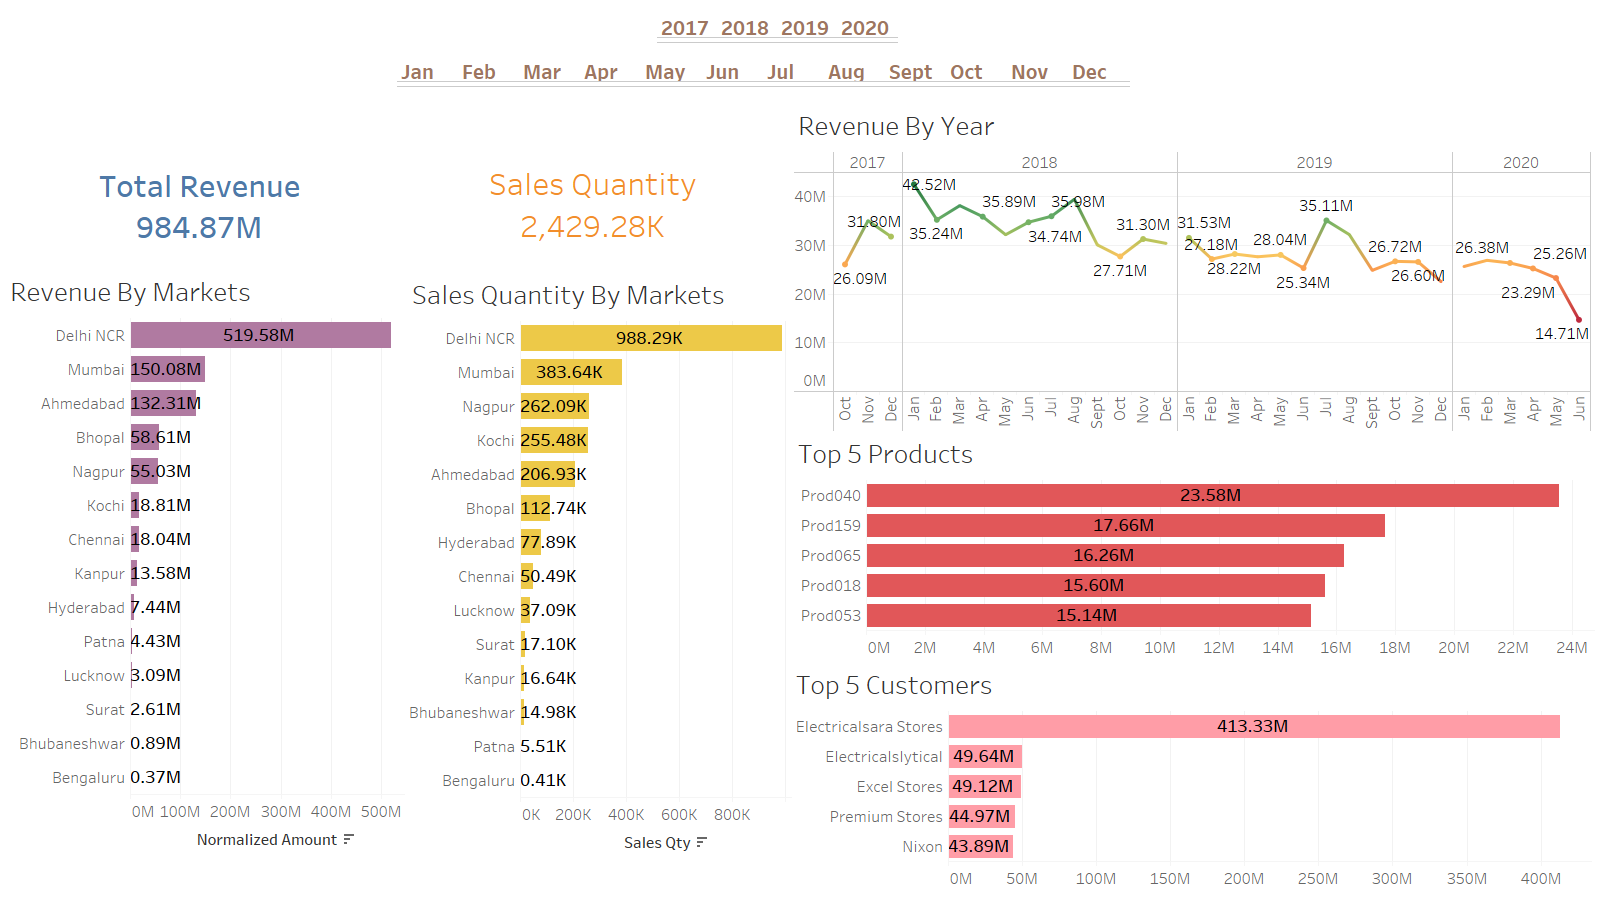

Layout of this report page (visuals, bound fields, positions):
{"tool":"tableau","page":{"name":"Dashboard - Rvenue Analisis","canvas":[1600,900],"ordinal":1},"visuals":[{"type":"worksheet","title":"Year","mark":"Automatic","cols":["cy_date"],"box":[657.1,2,268.8,50]},{"type":"worksheet","title":"Month","mark":"Automatic","cols":["cy_date"],"box":[396.8,46,791.5,58]},{"type":"worksheet","title":"Revenue By Year","mark":"Automatic","rows":["Calculation_1678998249550069760"],"cols":["cy_date","cy_date"],"box":[794,102,797,330]},{"type":"worksheet","title":"Quantity","mark":"Automatic","box":[483,148,241,113]},{"type":"worksheet","title":"Revenue","mark":"Automatic","box":[90,150,236,102]},{"type":"worksheet","title":"Revenue By Markets","mark":"Automatic","rows":["markets_name"],"cols":["Calculation_1678998249550069760"],"box":[6,268,398,626]},{"type":"worksheet","title":"Sales Quantity By Markets","mark":"Automatic","rows":["markets_name"],"cols":["sales_qty"],"box":[408,271,387,620]},{"type":"worksheet","title":"Top 5 Products","mark":"Automatic","rows":["product_code (products)"],"cols":["Calculation_1678998249550069760"],"box":[794,430,800,232]},{"type":"worksheet","title":"Top 5 Customers","mark":"Automatic","rows":["custmer_name"],"cols":["Calculation_1678998249550069760"],"box":[792,661,799,233]}]}

Visuals, with their boxes in screenshot pixels (x1, y1, x2, y2), scaled from the page's 1600x900 canvas onto the 1600x900 screenshot:
"Year" worksheet: bbox=(657, 2, 926, 52)
"Month" worksheet: bbox=(397, 46, 1188, 104)
"Revenue By Year" worksheet: bbox=(794, 102, 1591, 432)
"Quantity" worksheet: bbox=(483, 148, 724, 261)
"Revenue" worksheet: bbox=(90, 150, 326, 252)
"Revenue By Markets" worksheet: bbox=(6, 268, 404, 894)
"Sales Quantity By Markets" worksheet: bbox=(408, 271, 795, 891)
"Top 5 Products" worksheet: bbox=(794, 430, 1594, 662)
"Top 5 Customers" worksheet: bbox=(792, 661, 1591, 894)
